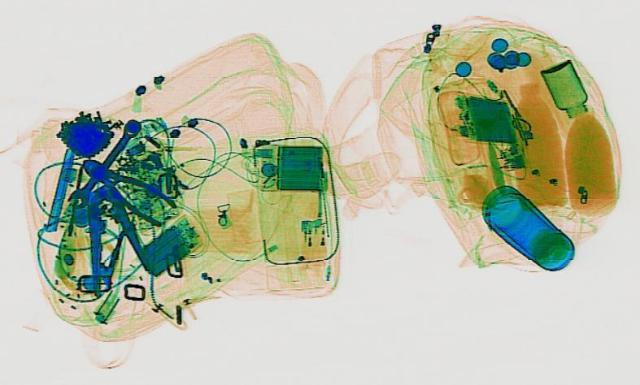Pliers: (66, 153, 190, 226), (70, 184, 152, 281)
Wrench: (59, 117, 144, 208)
